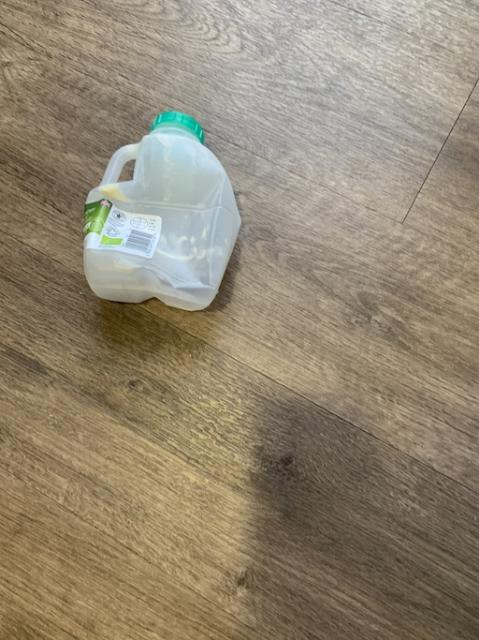plastic: (83, 111, 239, 309)
